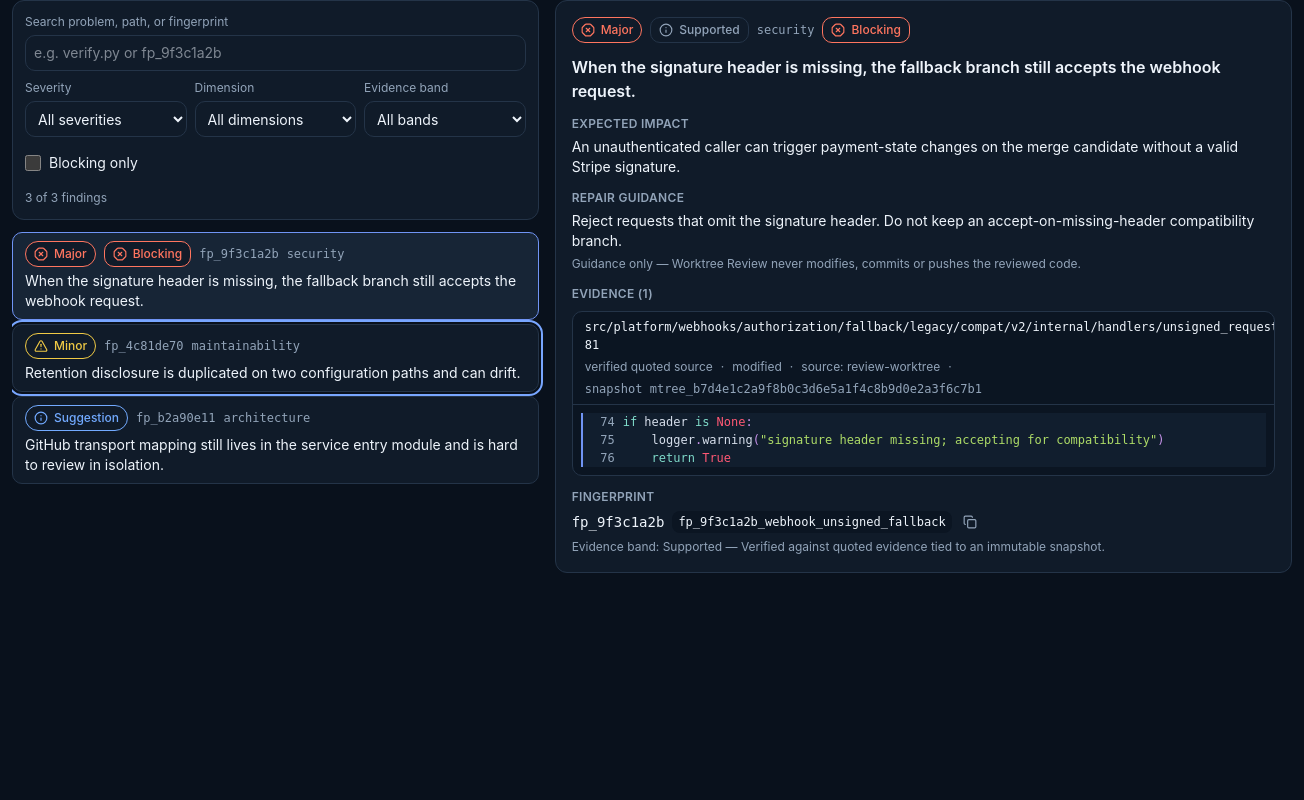
keyboard operation › selects a finding with the keyboard only
This screenshot has width=1304, height=800.
Press Enter in the button "Retention disclosure is duplicated", box [12,324,539,392]
Click the button "Retention disclosure is duplicated" at (61, 346), box [12,324,539,392]
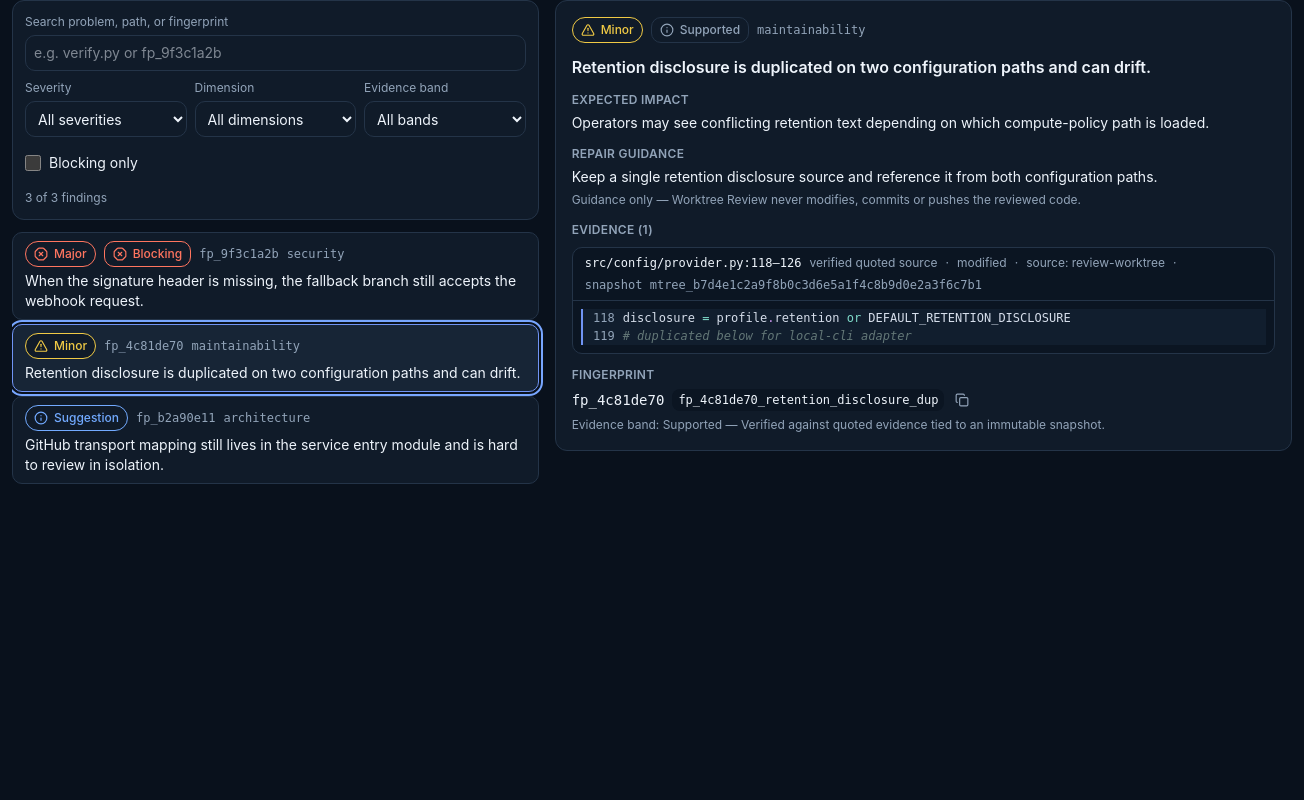
expect the heading "Retention disclosure is duplicated" is shown: met, box [572,57,1151,77]
